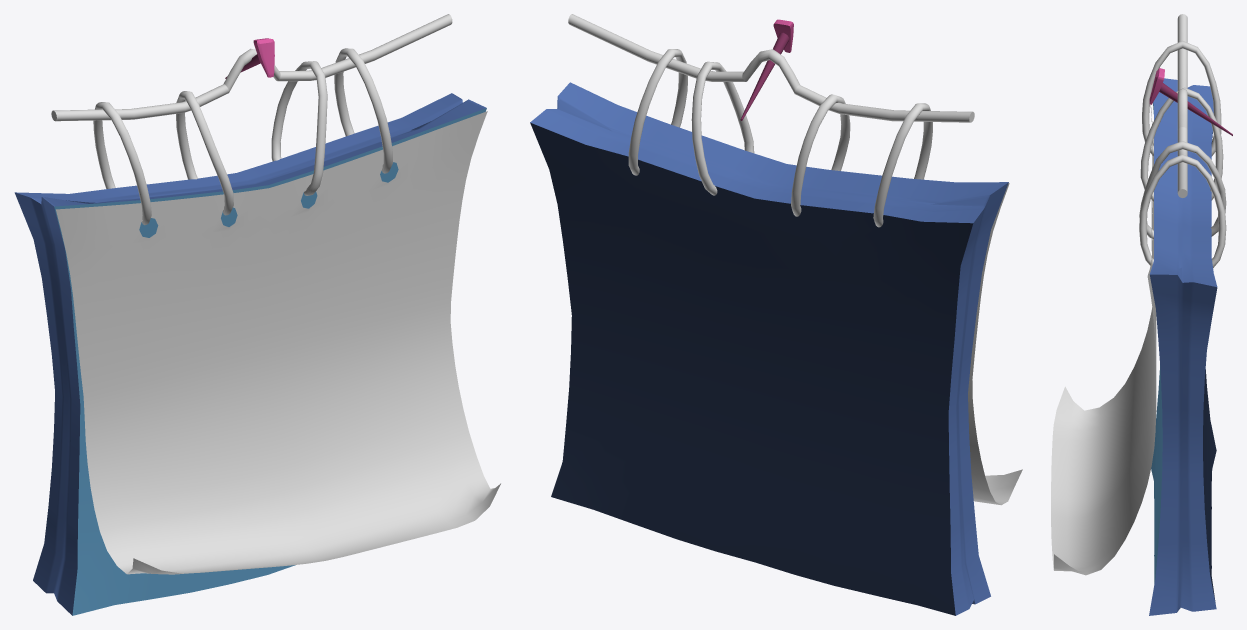
File: Calendar.fbx
3 views of the same model, side by side, from view 1: azimuth 30°, elevation 25°; view 2: azimuth 150°, elevation 25°; view 3: azimuth 270°, elevation 25° (orthographic). The views are drawn at different scales.
Visible parts, largest first — view 1: front_page, sheets, wire, ring3, ring4, ring1, ring2, nail; view 2: sheets, wire, front_page, ring3, ring4, ring1, ring2, nail; view 3: sheets, front_page, ring4, wire, ring1, ring2, ring3, nail.
Part boxes in pixels (bbox=[...]): front_page: bbox=[56, 111, 500, 574]; sheets: bbox=[14, 93, 486, 615]; wire: bbox=[51, 14, 452, 121]; ring3: bbox=[271, 61, 327, 195]; ring4: bbox=[334, 48, 392, 173]; ring1: bbox=[93, 102, 151, 225]; ring2: bbox=[176, 91, 233, 215]; nail: bbox=[225, 38, 274, 78]; sheets: bbox=[530, 82, 1008, 615]; wire: bbox=[568, 14, 974, 122]; front_page: bbox=[968, 183, 1022, 505]; ring3: bbox=[691, 61, 754, 195]; ring4: bbox=[628, 49, 687, 175]; ring1: bbox=[873, 103, 932, 227]; ring2: bbox=[791, 94, 850, 216]; nail: bbox=[740, 19, 793, 120]; sheets: bbox=[1149, 78, 1217, 615]; front_page: bbox=[1051, 105, 1156, 575]; ring4: bbox=[1139, 154, 1226, 267]; wire: bbox=[1177, 14, 1187, 197]; ring1: bbox=[1142, 41, 1221, 156]; ring2: bbox=[1140, 87, 1223, 202]; ring3: bbox=[1139, 141, 1226, 239]; nail: bbox=[1149, 68, 1232, 135].
Size of the model in its own units: 249 by 291 by 99.04.
